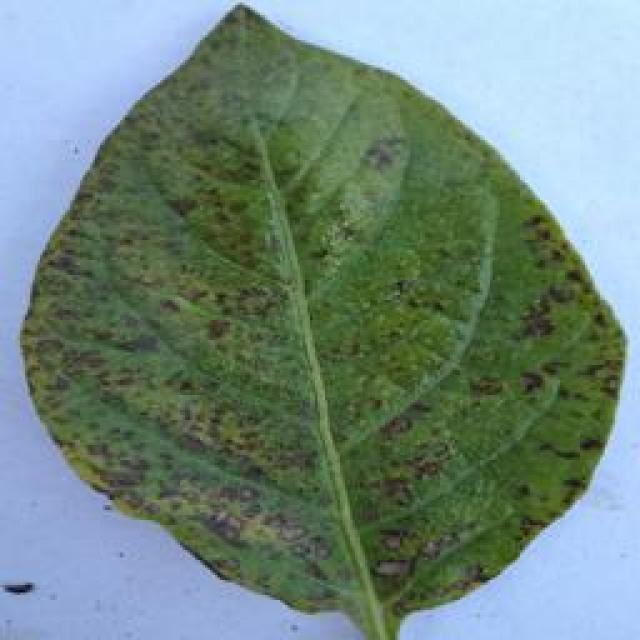Potato_Early_Blight: (4, 2, 632, 630)
